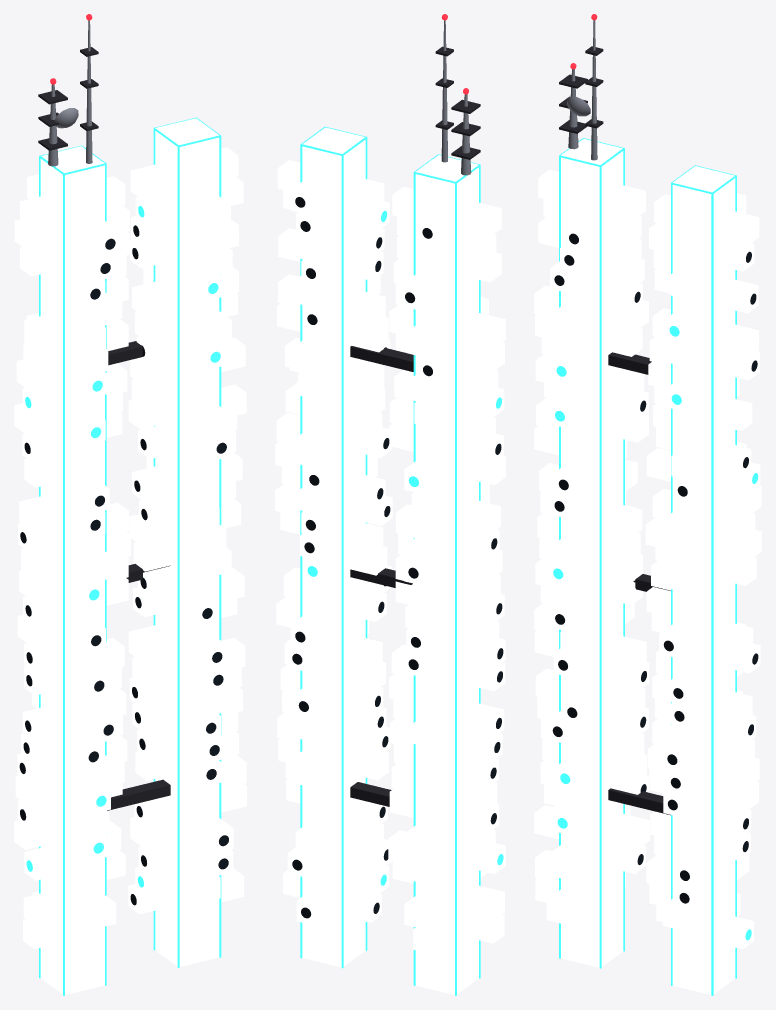
Rendered from capsule_slab.glb.
The picture shows the model from 3 angles, left to right: view 1: azimuth 30°, elevation 25°; view 2: azimuth 150°, elevation 25°; view 3: azimuth 330°, elevation 25°; orthographic projection. The views are drawn at different scales.
Visible parts, largest first — view 1: facade_panel, facade_concrete, neon_cyan, light_white, glass_dark, metal_dark, metal_light; view 2: facade_panel, facade_concrete, neon_cyan, light_white, metal_dark, glass_dark, metal_light; view 3: facade_panel, facade_concrete, neon_cyan, light_white, metal_dark, glass_dark, metal_light.
Boxes of the visible parts, x1,y1,x2,y2 form: facade_panel: [14, 147, 246, 955]; facade_concrete: [40, 118, 219, 994]; neon_cyan: [25, 117, 221, 995]; light_white: [16, 179, 227, 947]; glass_dark: [19, 225, 228, 905]; metal_dark: [38, 47, 170, 810]; metal_light: [48, 20, 92, 166]; facade_panel: [275, 160, 505, 954]; facade_concrete: [302, 127, 478, 994]; neon_cyan: [300, 126, 503, 995]; light_white: [292, 191, 503, 946]; metal_dark: [350, 46, 480, 806]; glass_dark: [292, 197, 503, 918]; metal_light: [441, 20, 471, 175]; facade_panel: [534, 169, 761, 949]; facade_concrete: [561, 139, 735, 994]; neon_cyan: [553, 138, 758, 995]; light_white: [550, 199, 759, 922]; metal_dark: [559, 46, 670, 815]; glass_dark: [552, 233, 758, 903]; metal_light: [567, 20, 597, 160].
Bounding box in the file's own units: 25.9 × 113 × 11.9.
